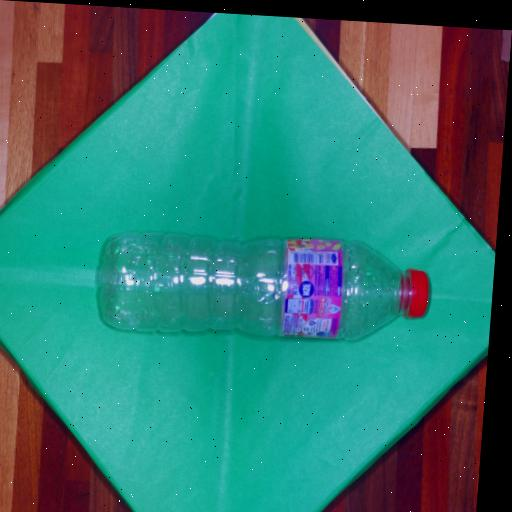bottle: (87, 217, 432, 359)
